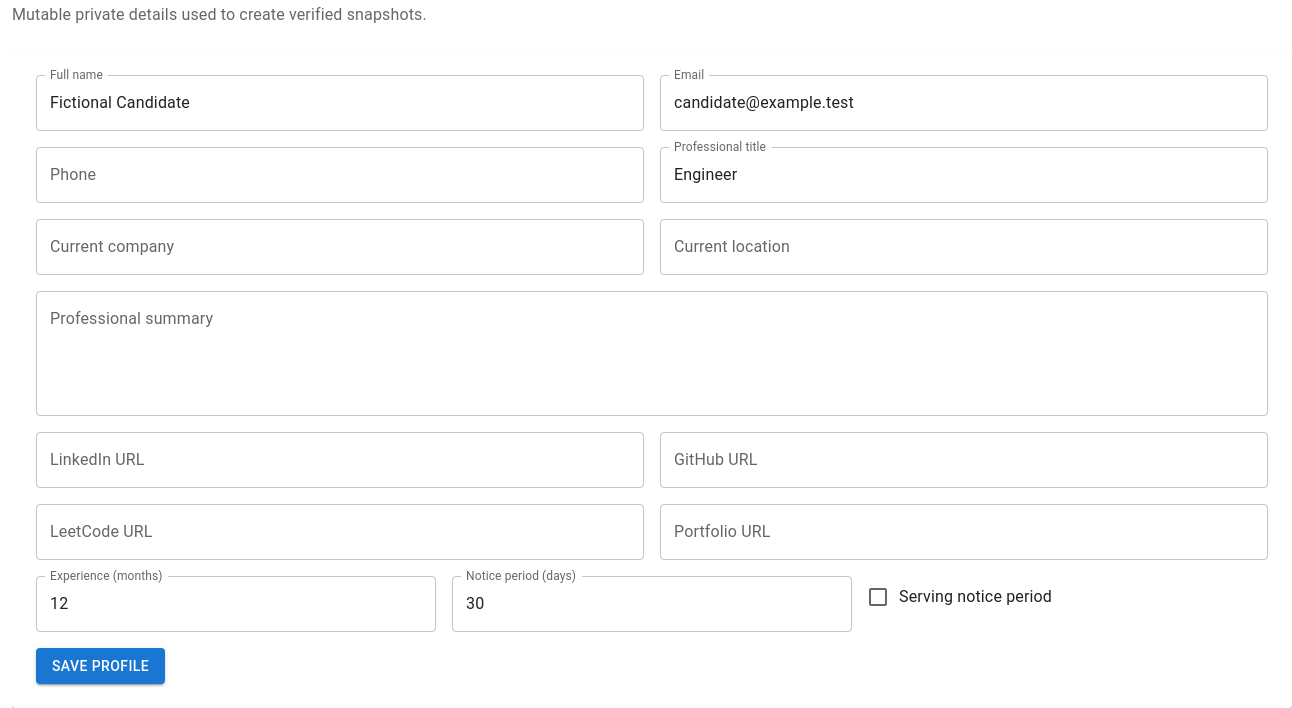
it: Phase 2 pages › explains an optimistic-lock conflict
(page scrolled)
Expected: the field showing "Fictional Candidate" is shown, 36,75 -> 644,131
Click the button "Save profile".
click(100, 666)  # box 36,648 -> 165,684
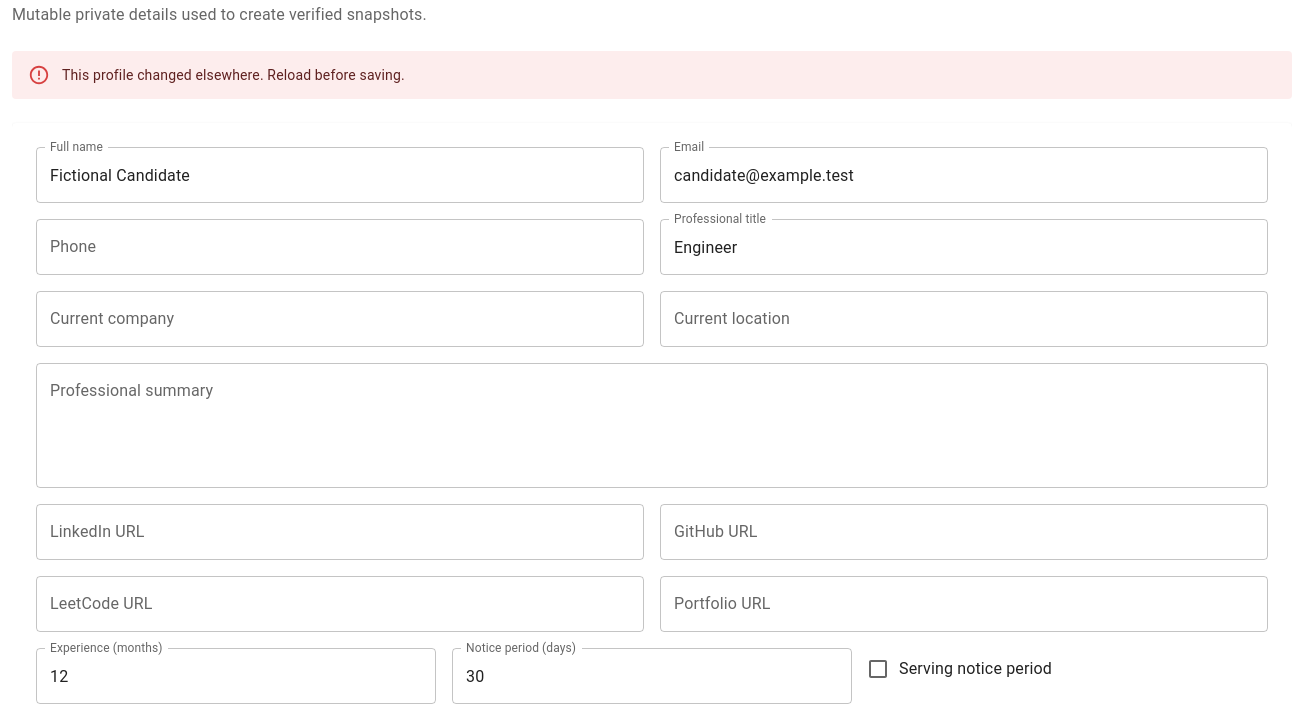
Expected: the text "This profile changed elsewhere. Reload before saving." is shown, 62,67 -> 405,83
